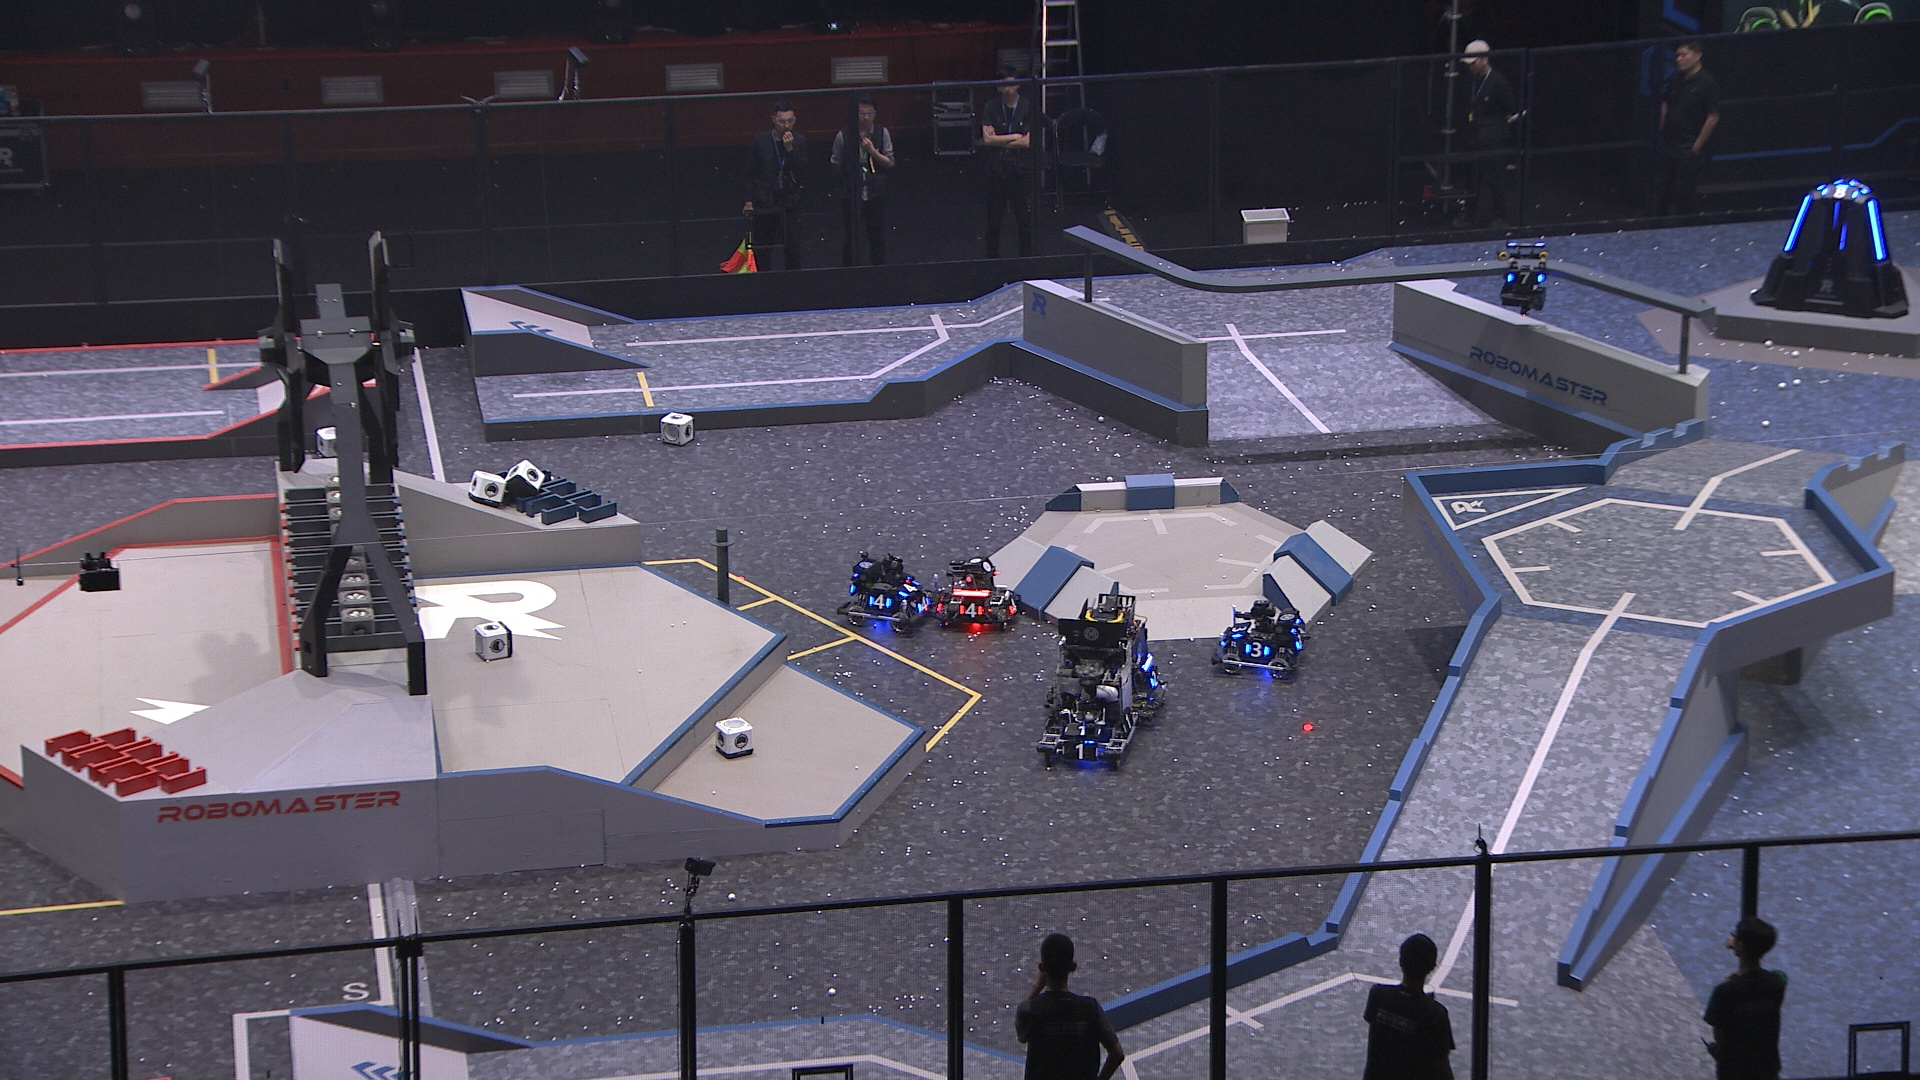armor: (1782, 190, 1812, 255), (1869, 200, 1884, 261), (1062, 741, 1101, 761), (1505, 268, 1544, 285), (1820, 181, 1859, 196), (955, 600, 986, 618), (1069, 723, 1101, 738), (913, 593, 932, 617), (1244, 638, 1269, 657), (897, 576, 920, 593), (1120, 709, 1135, 735), (866, 593, 891, 609), (1229, 621, 1247, 642), (1147, 666, 1162, 688), (1007, 595, 1021, 618), (1832, 200, 1842, 228), (1294, 629, 1307, 647)
base: (1754, 173, 1913, 319)
car: (1035, 605, 1139, 764), (1073, 589, 1168, 717), (835, 550, 938, 633), (1209, 597, 1309, 679), (934, 560, 1022, 629)
watcher: (1498, 237, 1552, 315)
